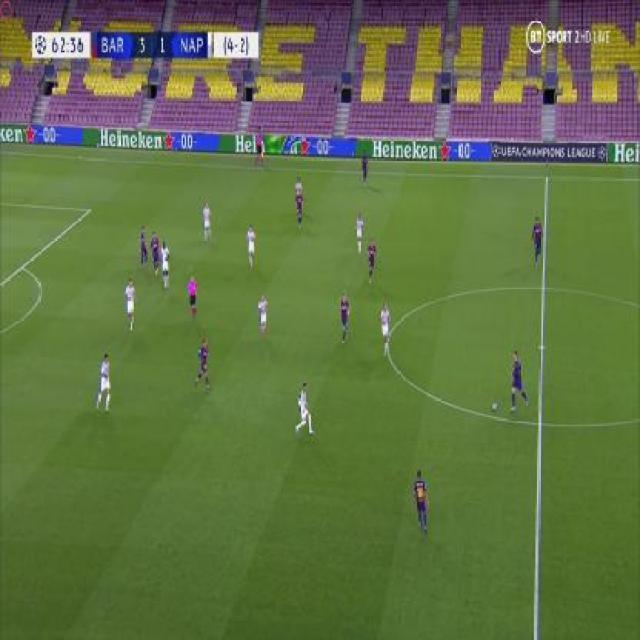ball: (491, 399, 499, 413)
player: (507, 348, 530, 411), (412, 470, 431, 536), (295, 381, 317, 437), (96, 352, 113, 415), (193, 337, 212, 391), (123, 276, 139, 333), (378, 300, 392, 359), (337, 289, 351, 345), (531, 216, 544, 267), (245, 221, 258, 270), (365, 235, 378, 283), (186, 272, 199, 320), (256, 291, 269, 339), (161, 239, 172, 288), (253, 128, 266, 167), (149, 230, 160, 276), (138, 225, 149, 270), (354, 210, 365, 253), (294, 189, 305, 229), (202, 200, 211, 243), (360, 147, 369, 186), (295, 176, 303, 213)
